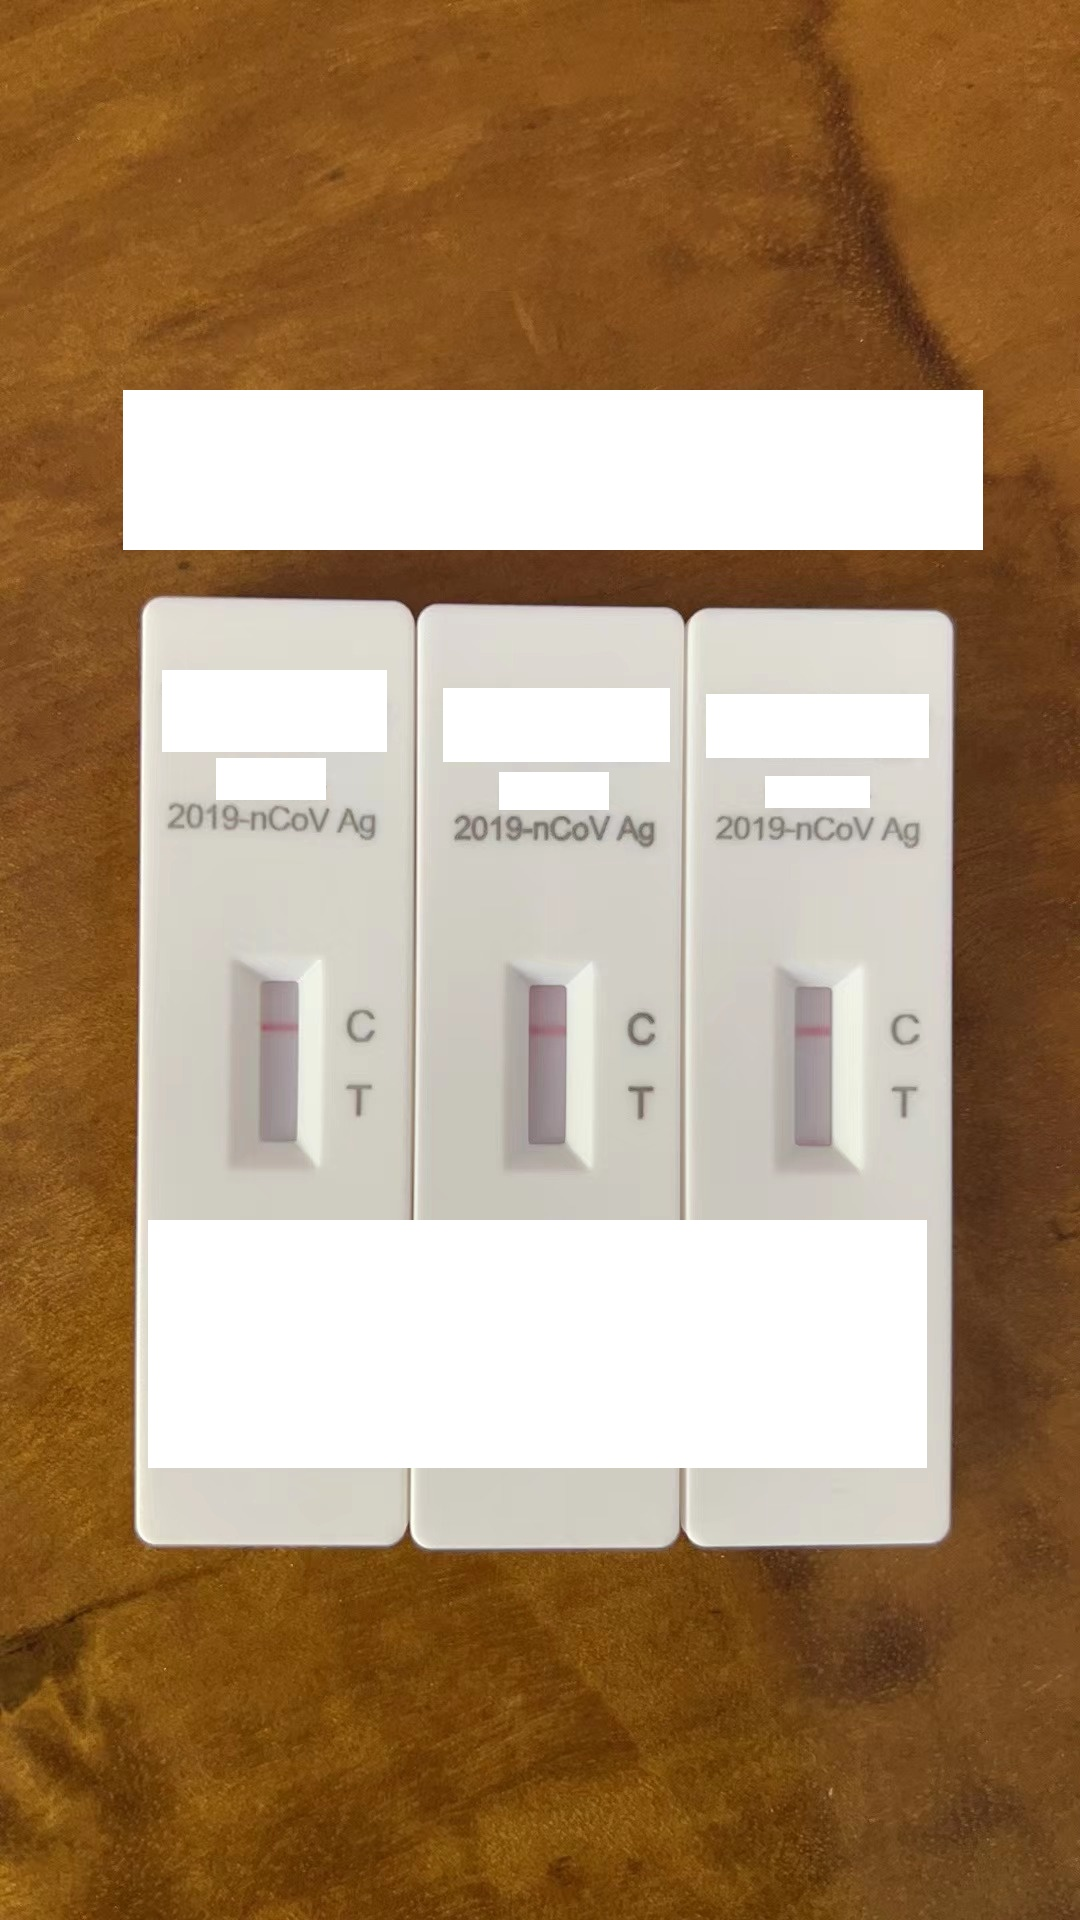negative: (233, 952, 322, 1168), (771, 960, 858, 1168), (505, 957, 589, 1166)
